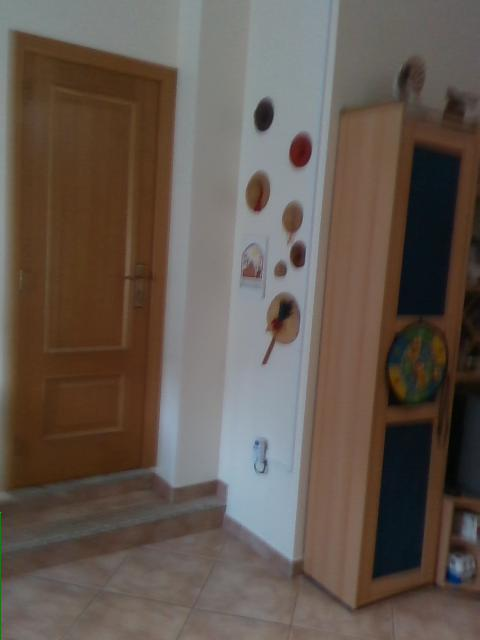door: (25, 54, 161, 485)
